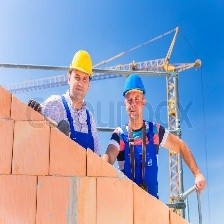helmet: (66, 50, 94, 82), (121, 72, 147, 102)
person: (116, 72, 159, 171), (51, 49, 96, 141)
